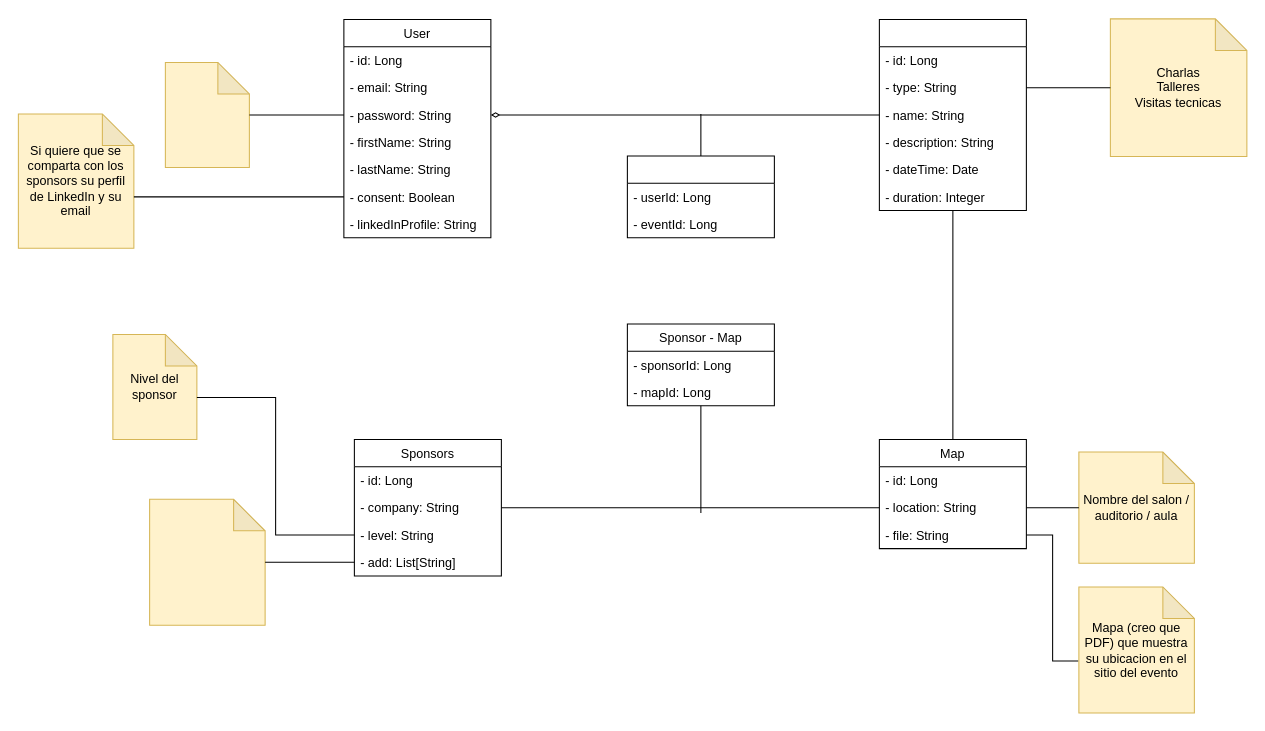
The diagram is 1265 pixels wide and 731 high, and some of its shapes have lost their labels. Here are the shapes that lost their labels. From the top down, the box of each, then its label:
(164, 61, 249, 167): SHA 256
(878, 18, 1026, 211): Event
(626, 155, 774, 238): User - Event
(149, 498, 265, 625): Imagen correspondiente a la empresa para poner en el corrousel
